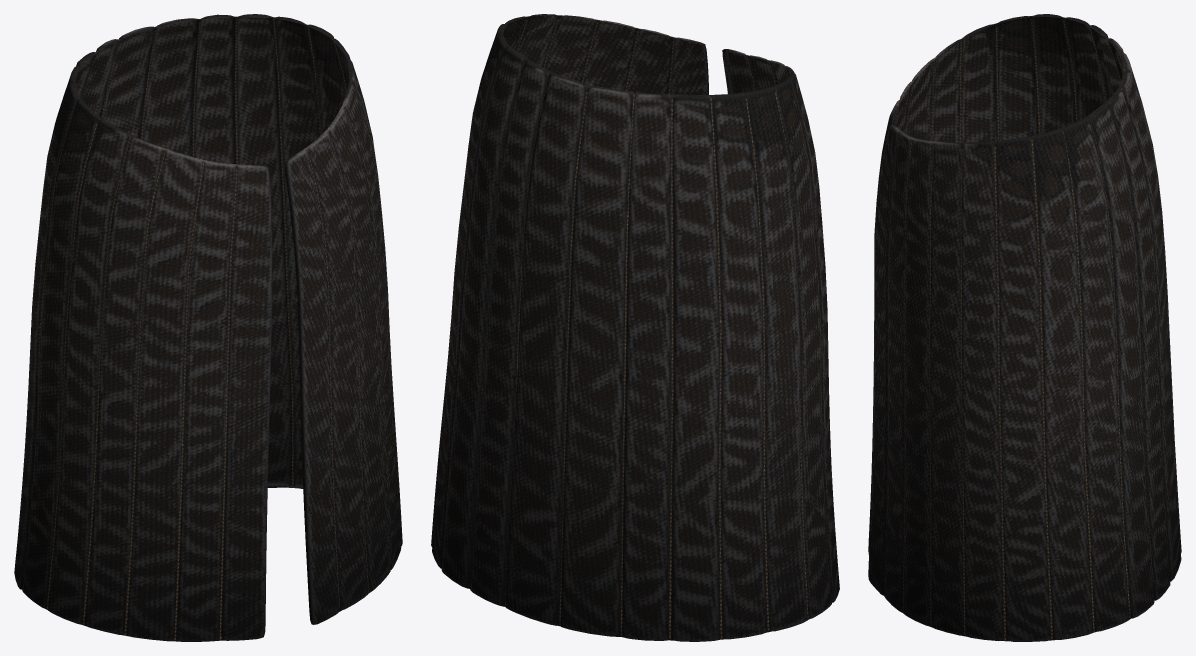
Rendered from clo_rgva_chest_ver3.fbx.
The picture shows the model from 3 angles, left to right: view 1: azimuth 30°, elevation 25°; view 2: azimuth 150°, elevation 25°; view 3: azimuth 270°, elevation 25°; orthographic projection. The views are drawn at different scales.
Visible parts, largest first — view 1: clo_rgva_chest_ver3; view 2: clo_rgva_chest_ver3; view 3: clo_rgva_chest_ver3.
Boxes of the visible parts, <box> form: clo_rgva_chest_ver3: <box>14,14,402,641</box>; clo_rgva_chest_ver3: <box>431,14,839,641</box>; clo_rgva_chest_ver3: <box>868,14,1181,641</box>.
Size of the model in its own units: 0.4822 by 0.3758 by 0.6624.
1 material, 1 textured.
